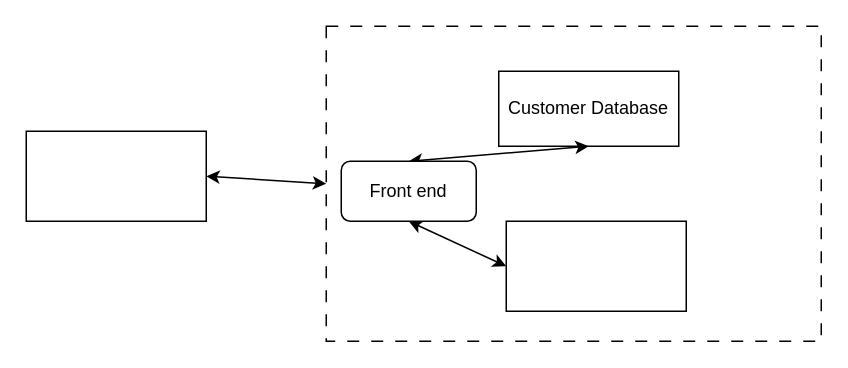
Some shapes in this 848 by 368 pixel diagram are drawn without their labels. Here are the shapes that lost their labels. From the top down, the box of each, then its label:
(25, 130, 206, 221): Web client
(505, 220, 686, 311): Sales Database
